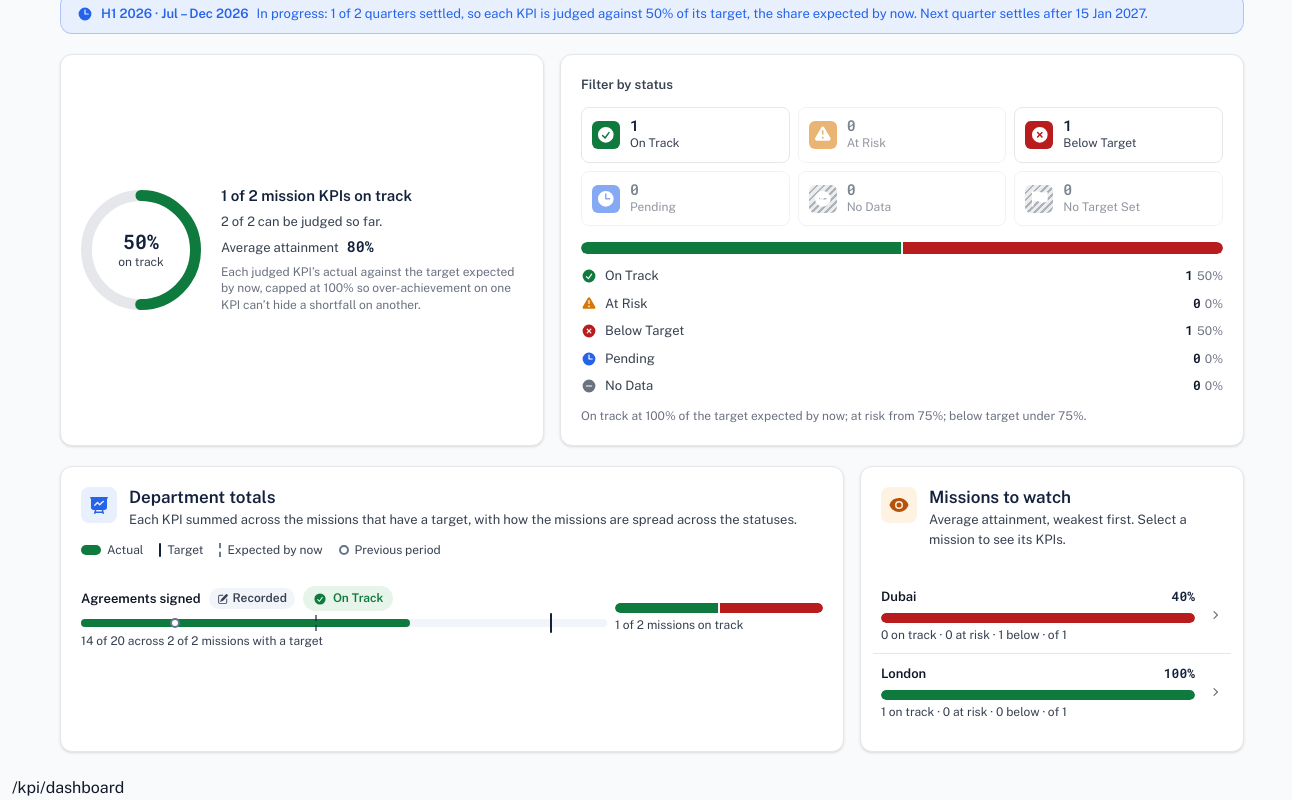
Test: KpiDashboardPage › TC-FR-KPI-016-UI: shows the department view with totals and the missions to watch
The image size is (1292, 800).
(page scrolled)
Expected: the button with test id "kpi-total-kpi-1" shows "14 of 20 across 2 of 2 missions with a target", [73,574,831,662]
Expected: the button with test id "kpi-total-kpi-1" shows "1 of 2 missions on track", [73,574,831,662]
Click the button with aria-label "View Dubai".
click(1052, 615)  # box [873,577,1231,653]
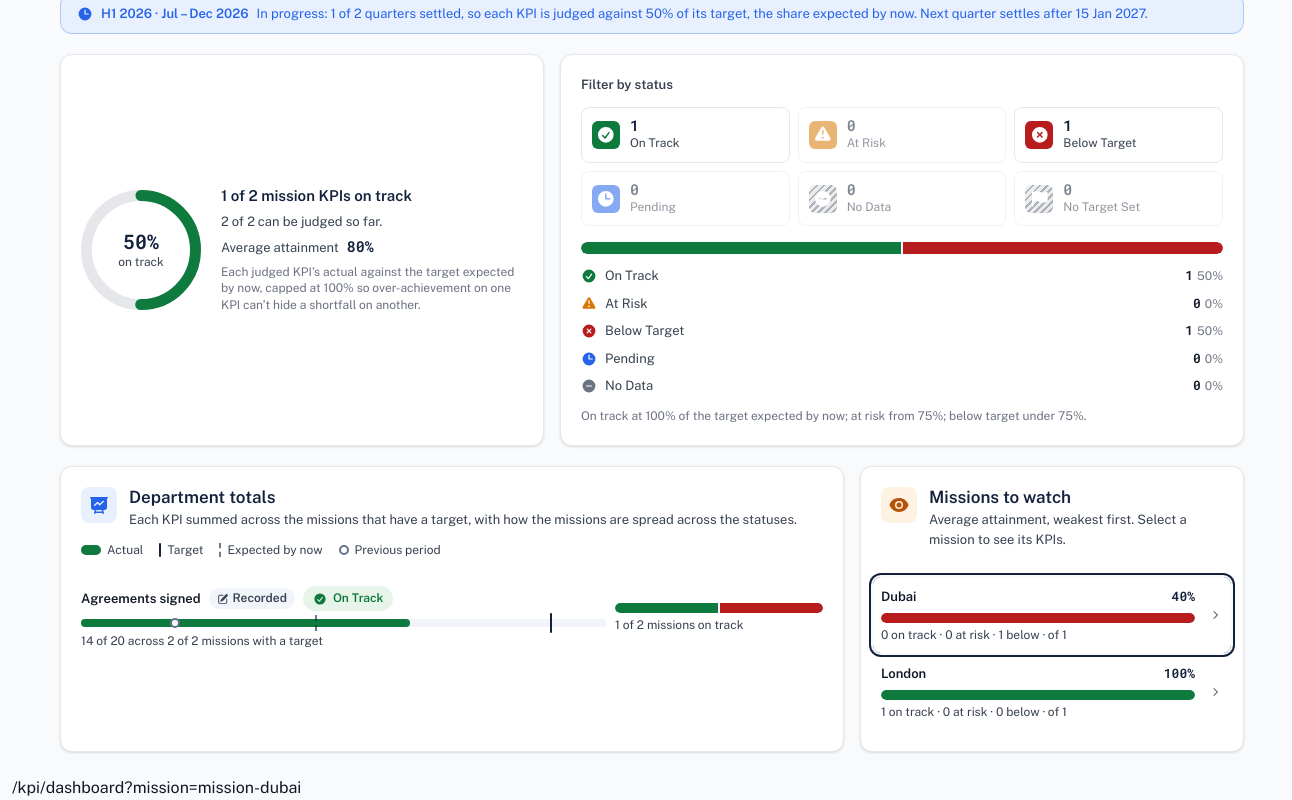
Result: the text with test id "location" shows "mission=mission-dubai" at [12,778,301,797]
